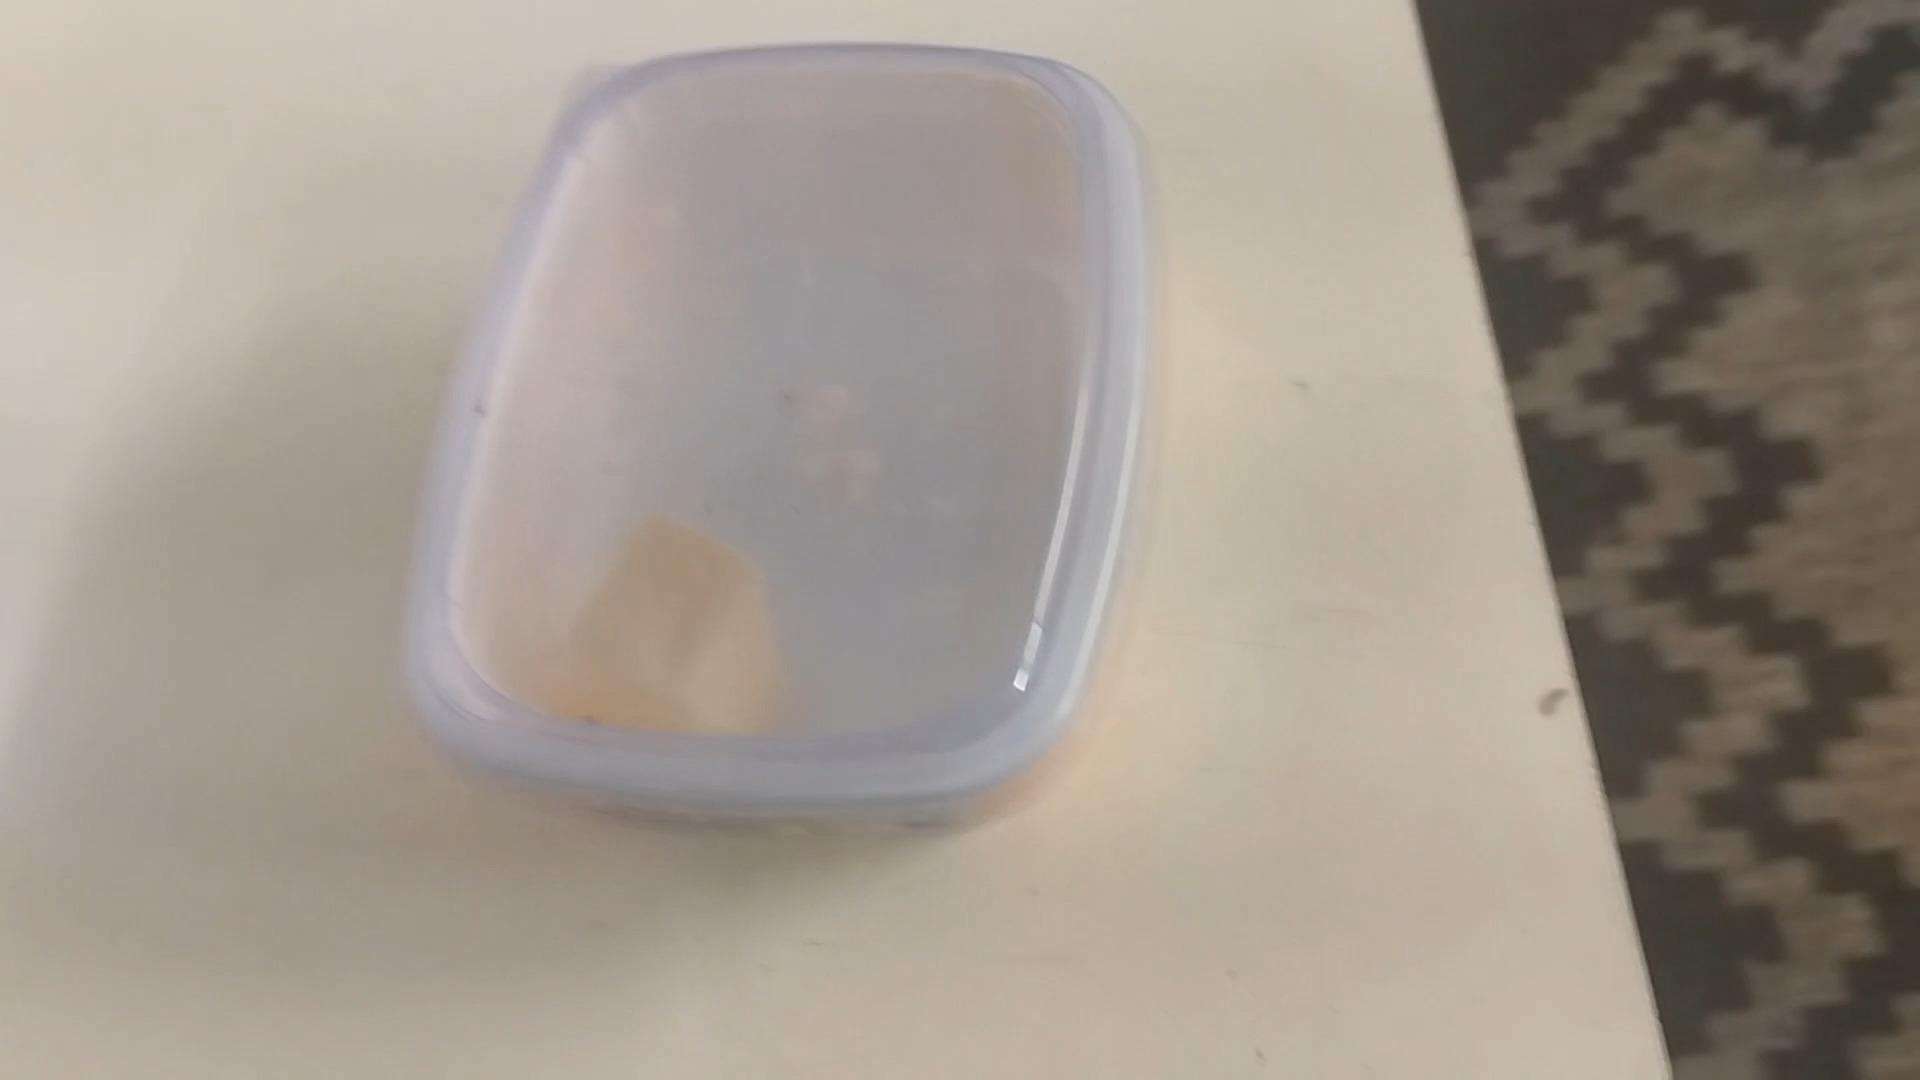butter: (409, 47, 1150, 839)
